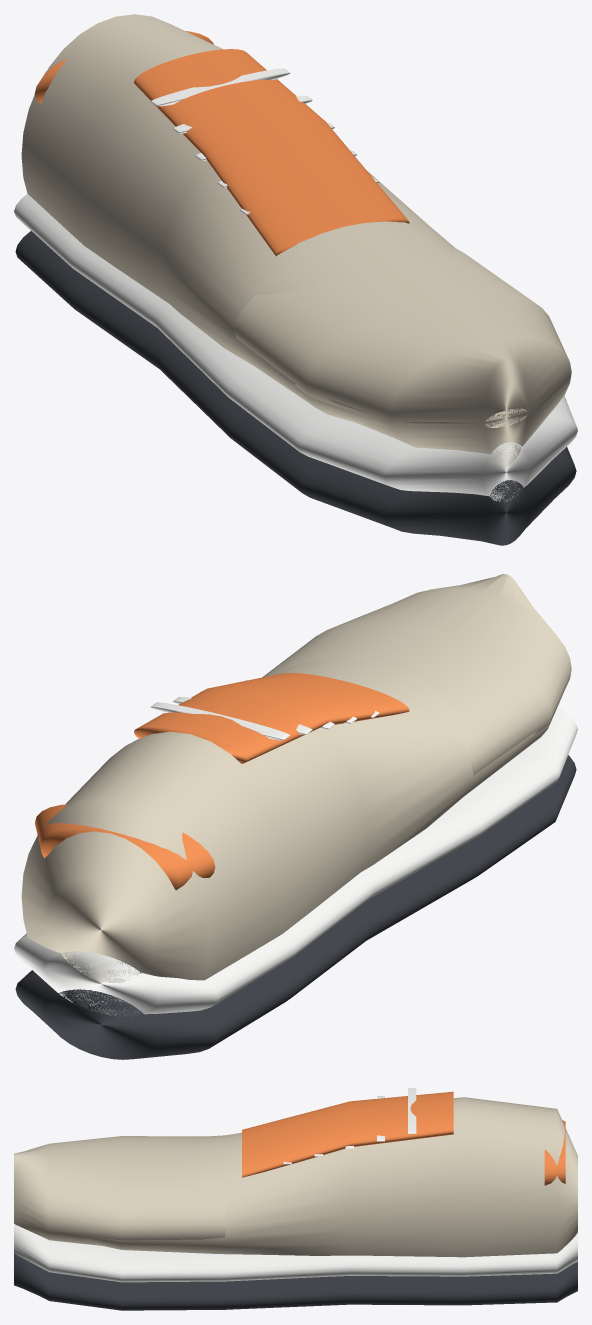
The model's file is urban_sand.glb.
The picture shows the model from 3 angles, top to bottom: view 1: azimuth 30°, elevation 25°; view 2: azimuth 150°, elevation 25°; view 3: azimuth 270°, elevation 25°; orthographic projection. The views are drawn at different scales.
Visible parts, largest first — view 1: Upper, Toe panel, Tongue, Midsole, Outsole, Lace 1; view 2: Upper, Toe panel, Outsole, Midsole, Tongue, Heel accent, Lace 1; view 3: Upper, Toe panel, Outsole, Midsole, Tongue, Heel accent, Lace 1.
Boxes of the visible parts, x1,y1,x2,y2 form: Upper: (21,14,527,427); Toe panel: (234,247,571,466); Tongue: (134,49,409,256); Midsole: (14,194,577,501); Outsole: (15,231,576,545); Lace 1: (150,68,290,106); Upper: (21,658,564,982); Toe panel: (262,574,571,775); Outsole: (15,755,576,1059); Midsole: (14,705,577,1016); Tongue: (134,673,409,763); Heel accent: (35,804,215,890); Lace 1: (150,702,289,740); Upper: (55,1097,577,1257); Toe panel: (14,1136,225,1245); Outsole: (14,1253,577,1310); Midsole: (14,1224,577,1282); Tongue: (242,1091,453,1177); Heel accent: (544,1120,565,1185); Lace 1: (408,1088,416,1133).
Bounding box in the file's own units: 0.1015 × 0.098 × 0.272.
